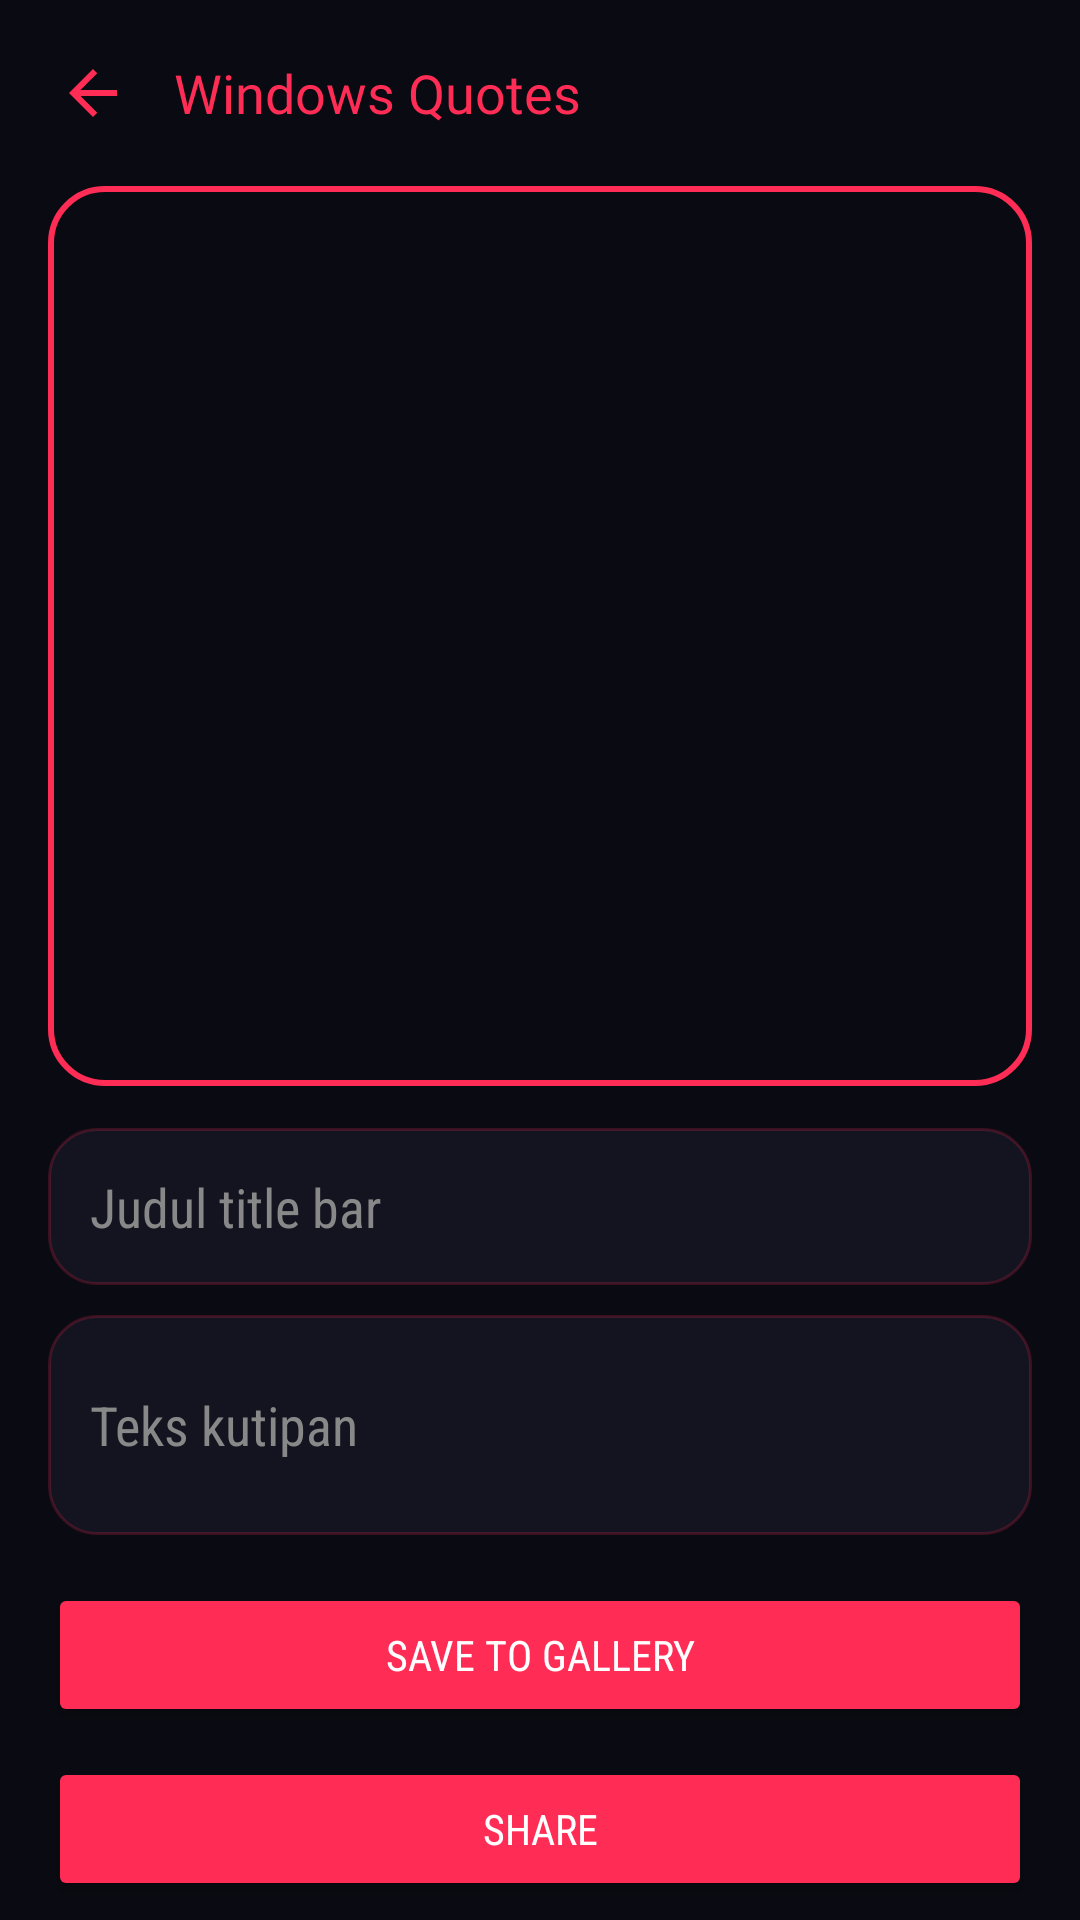

Locate icon controls on the screen. Image size 1080 × 1920, boxes as (x1, y1, x2, y2).
Back: (69, 69, 117, 117)
